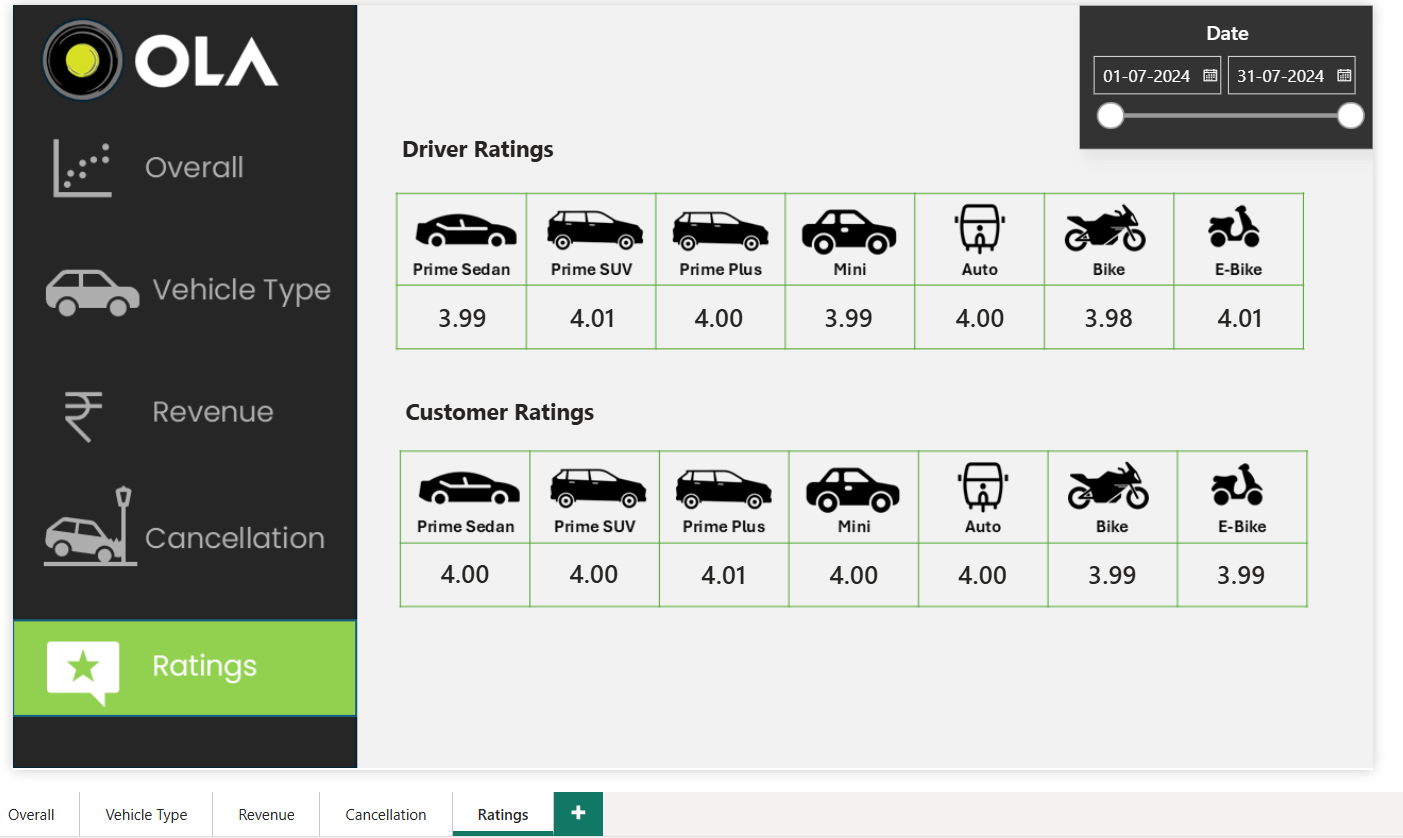

This screenshot's page, from the dashboard's own definition file:
{"tool":"powerbi","page":{"name":"Ratings","canvas":[1280,720],"ordinal":4},"visuals":[{"type":"actionButton","box":[0,219.6,324.5,94.1],"z":0},{"type":"actionButton","box":[0,335.4,324.5,94.1],"z":1000},{"type":"actionButton","box":[0,454.8,324.5,94.1],"z":2000},{"type":"actionButton","box":[1.2,106.2,324.5,94.1],"z":3000},{"type":"cardVisual","fields":{"Data":["Avg(Ola_Data.Driver_Ratings)"]},"box":[363.6,263.5,119.4,57.6],"z":3001},{"type":"textbox","box":[352.7,115.3,168.8,41.2],"z":3002},{"type":"textbox","box":[359.5,362.3,196.2,41.2],"z":3003},{"type":"cardVisual","fields":{"Data":["Avg(Ola_Data.Driver_Ratings)"]},"box":[485.8,263.5,119.4,57.6],"z":3004},{"type":"cardVisual","fields":{"Data":["Avg(Ola_Data.Driver_Ratings)"]},"box":[605.1,263.5,119.4,57.6],"z":3005},{"type":"cardVisual","fields":{"Data":["Avg(Ola_Data.Driver_Ratings)"]},"box":[727.3,263.5,119.4,57.6],"z":3006},{"type":"cardVisual","fields":{"Data":["Avg(Ola_Data.Driver_Ratings)"]},"box":[850.8,263.5,119.4,57.6],"z":3007},{"type":"cardVisual","fields":{"Data":["Avg(Ola_Data.Driver_Ratings)"]},"box":[971.5,263.5,119.4,57.6],"z":3008},{"type":"cardVisual","fields":{"Data":["Avg(Ola_Data.Driver_Ratings)"]},"box":[1095,263.5,119.4,57.6],"z":3009},{"type":"cardVisual","fields":{"Data":["Avg(Ola_Data.Customer_Rating)"]},"box":[366.4,505,119.4,57.6],"z":3010},{"type":"cardVisual","fields":{"Data":["Avg(Ola_Data.Customer_Rating)"]},"box":[487.1,505,119.4,57.6],"z":3011},{"type":"cardVisual","fields":{"Data":["Avg(Ola_Data.Customer_Rating)"]},"box":[609.3,506.3,119.4,57.6],"z":3012},{"type":"cardVisual","fields":{"Data":["Avg(Ola_Data.Customer_Rating)"]},"box":[975.6,506.3,119.4,57.6],"z":3013},{"type":"cardVisual","fields":{"Data":["Avg(Ola_Data.Customer_Rating)"]},"box":[853.5,506.3,119.4,57.6],"z":3014},{"type":"cardVisual","fields":{"Data":["Avg(Ola_Data.Customer_Rating)"]},"box":[731.4,506.3,119.4,57.6],"z":3015},{"type":"cardVisual","fields":{"Data":["Avg(Ola_Data.Customer_Rating)"]},"box":[1096.4,506.3,119.4,57.6],"z":3016},{"type":"slicer","title":"Date","fields":{"Values":["Ola_Data.Date"]},"box":[1003.1,0,277.2,135.8],"z":3017}]}

Visuals, with their boxes on the page's 1280x720 design canvas (x1, y1, x2, y2). These are canvas units, not pixel positions in the 1403x838 screenshot, which may show the page scaled, cropped or inside an application window:
actionButton: 0:220:324:314
actionButton: 0:335:324:430
actionButton: 0:455:324:549
actionButton: 1:106:326:200
cardVisual - Avg(Ola_Data.Driver_Ratings): 364:264:483:321
textbox: 353:115:522:156
textbox: 360:362:556:404
cardVisual - Avg(Ola_Data.Driver_Ratings): 486:264:605:321
cardVisual - Avg(Ola_Data.Driver_Ratings): 605:264:724:321
cardVisual - Avg(Ola_Data.Driver_Ratings): 727:264:847:321
cardVisual - Avg(Ola_Data.Driver_Ratings): 851:264:970:321
cardVisual - Avg(Ola_Data.Driver_Ratings): 972:264:1091:321
cardVisual - Avg(Ola_Data.Driver_Ratings): 1095:264:1214:321
cardVisual - Avg(Ola_Data.Customer_Rating): 366:505:486:563
cardVisual - Avg(Ola_Data.Customer_Rating): 487:505:606:563
cardVisual - Avg(Ola_Data.Customer_Rating): 609:506:729:564
cardVisual - Avg(Ola_Data.Customer_Rating): 976:506:1095:564
cardVisual - Avg(Ola_Data.Customer_Rating): 854:506:973:564
cardVisual - Avg(Ola_Data.Customer_Rating): 731:506:851:564
cardVisual - Avg(Ola_Data.Customer_Rating): 1096:506:1216:564
"Date" slicer: 1003:0:1280:136
